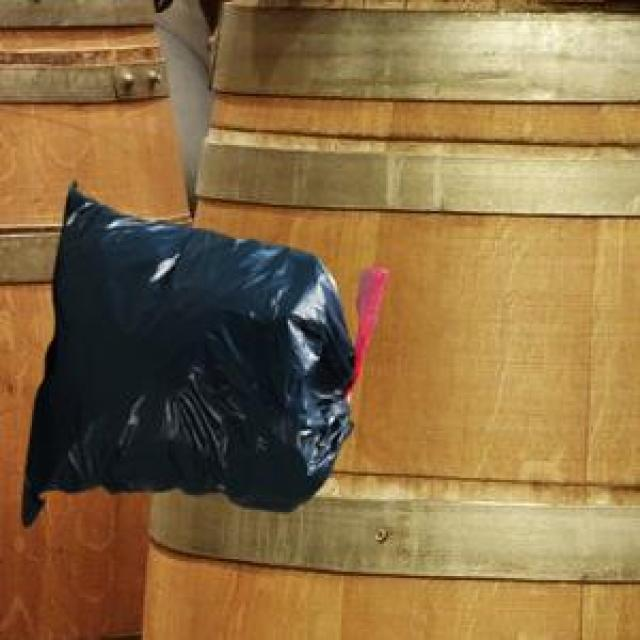waste: (22, 185, 354, 523)
